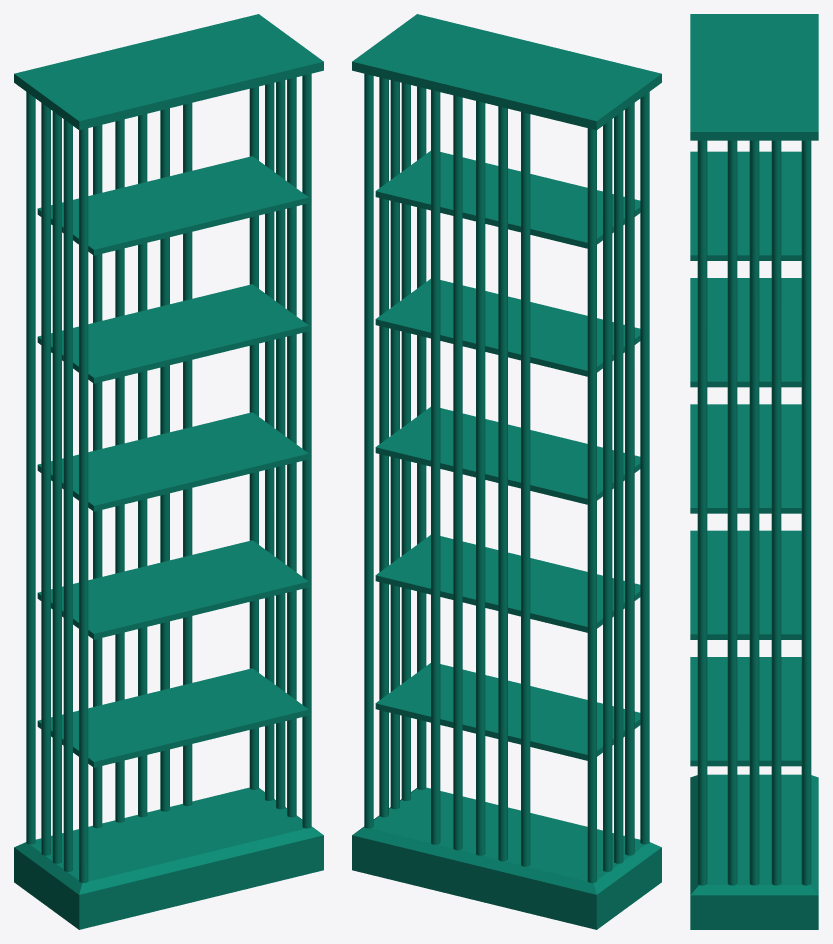
Rendered from Library01.FBX.
The picture shows the model from 3 angles, left to right: view 1: azimuth 30°, elevation 25°; view 2: azimuth 150°, elevation 25°; view 3: azimuth 270°, elevation 25°; orthographic projection.
Parts seen in each view (by area): view 1: Library01; view 2: Library01; view 3: Library01.
Boxes of the visible parts, x1,y1,x2,y2 form: Library01: [14, 14, 323, 929]; Library01: [352, 14, 661, 929]; Library01: [690, 14, 818, 929].
Size of the model in its own units: 76 by 240 by 35.
